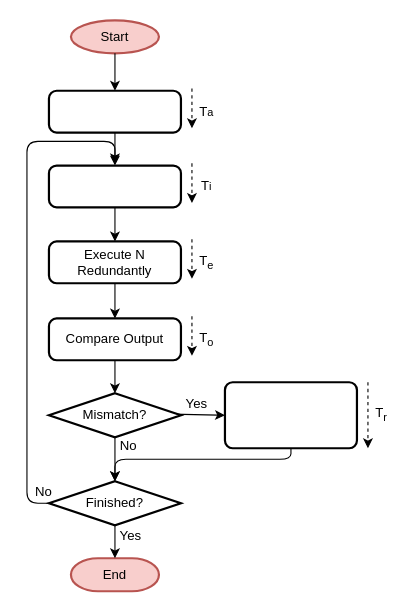
The diagram is 417 pixels wide and 611 high, and some of its shapes have lost their labels. The shapes that lost their labels are listed below. From the top down, each one's centre as x and y in pixels, then its label:
pixel 114 111: Activate N Redundant (Sub-) Systems
pixel 114 186: Replicate Input
pixel 290 415: Remove, Replace, or Discount Affected Redundant (Sub-) Systems
